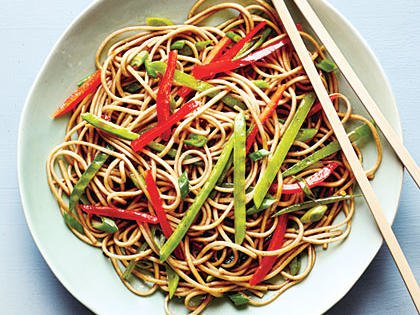Soba: (53, 2, 367, 314)
